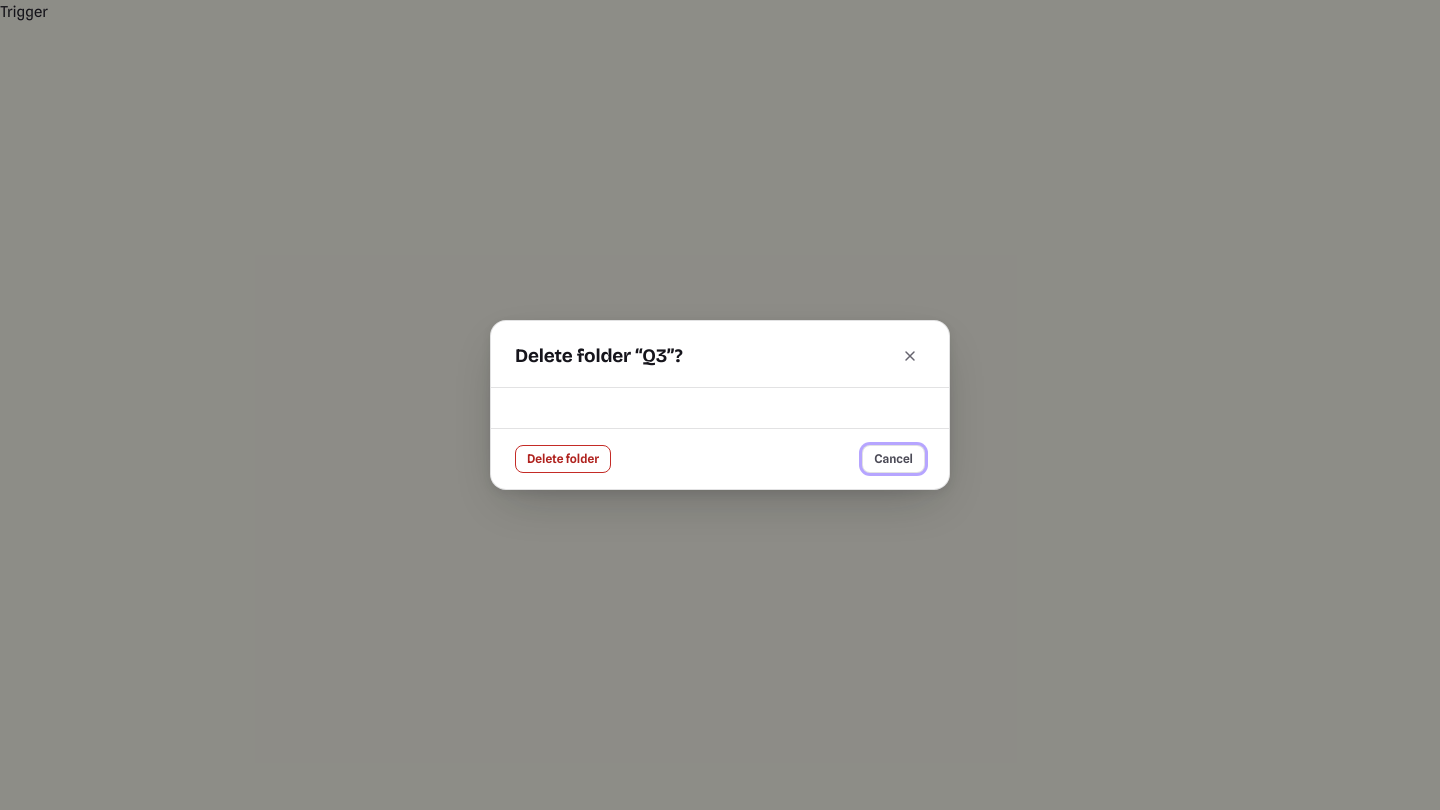
Test: useConfirm › the same question asked again while it's open is one dialog with one answer
Expected: the number of dialogs with test id "confirm-dialog" is 1, [490, 320, 950, 490]
Click the button "Delete folder" at point(563, 459), box [515, 445, 611, 473]
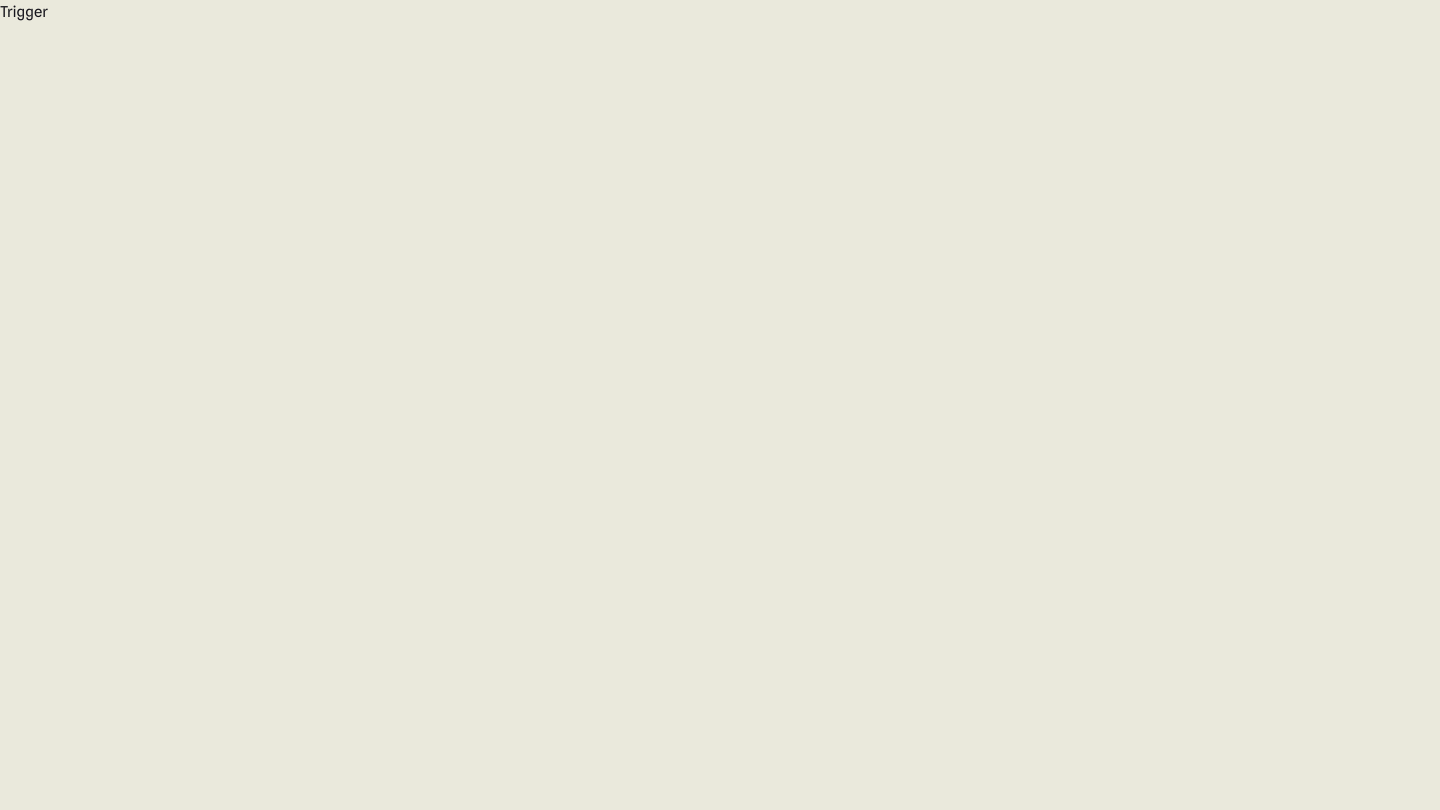
Now the dialog with test id "confirm-dialog" is gone
